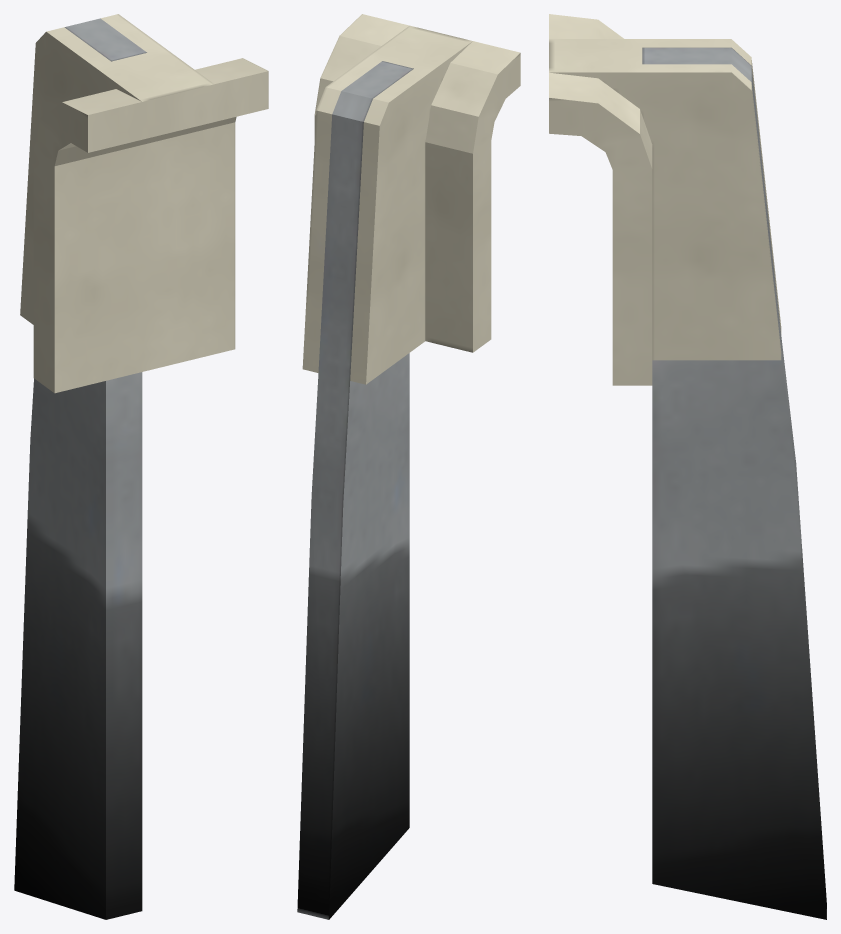
The model's file is PlasticTipSlingArm.fbx.
3 views of the same model, side by side, from view 1: azimuth 30°, elevation 25°; view 2: azimuth 150°, elevation 25°; view 3: azimuth 270°, elevation 25° (orthographic). The views are drawn at different scales.
Visible parts, largest first — view 1: PlasticTipSlingArm; view 2: PlasticTipSlingArm; view 3: PlasticTipSlingArm.
Part boxes in pixels (x1,y1,x2,y2): PlasticTipSlingArm: (14,14,268,919); PlasticTipSlingArm: (297,14,520,919); PlasticTipSlingArm: (549,14,826,919).
Bounding box in the file's own units: 1.03 × 4.88 × 1.44.
1 material, 1 textured.
